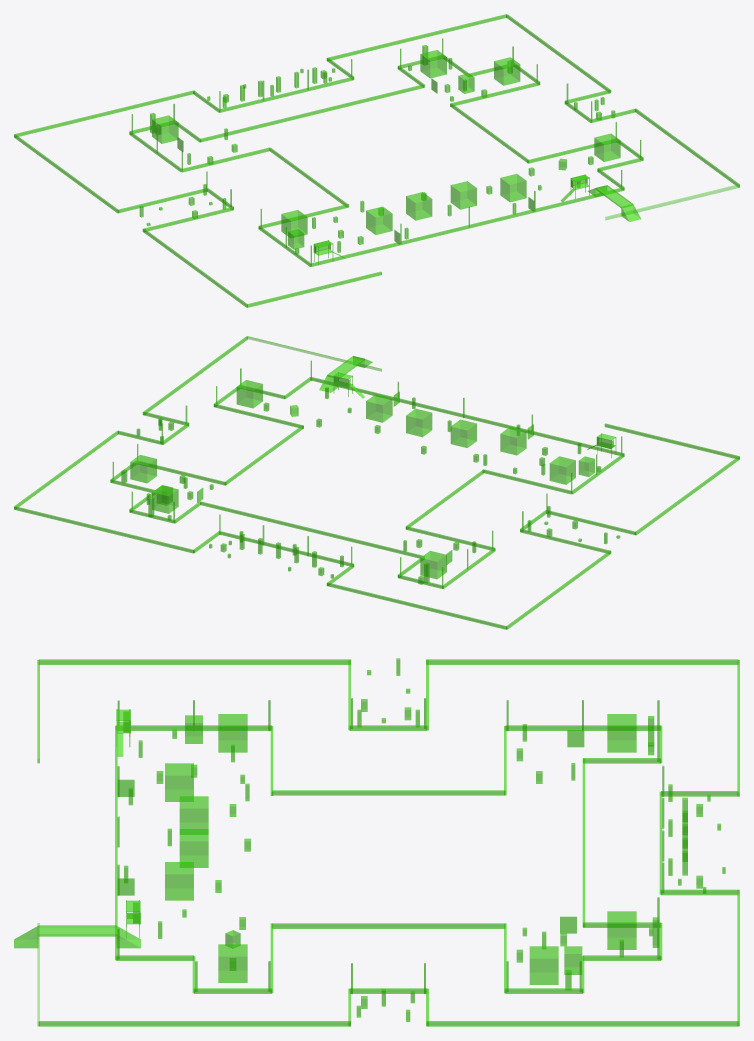
Rendered from track_03_collider.glb.
The picture shows the model from 3 angles, top to bottom: view 1: azimuth 30°, elevation 25°; view 2: azimuth 150°, elevation 25°; view 3: azimuth 270°, elevation 25°; orthographic projection. The views are drawn at different scales.
Parts seen in each view (by area): view 1: Box_collider.107_collider, Box_collider.095_collider, Box_collider.108_collider, Box_collider.105_collider, Box_collider.106_collider, light2_collider, Box_collider.096_collider, Box_collider.189_collider, Box_collider.184_collider, Box_collider.187_collider, Box_collider.183_collider, Box_collider.129_collider (+5 smaller); view 2: Box_collider.107_collider, Box_collider.095_collider, Box_collider.105_collider, Box_collider.106_collider, Box_collider.108_collider, light2_collider, Box_collider.096_collider, Box_collider.185_collider, Box_collider.184_collider, Box_collider.183_collider, Box_collider.182_collider, Box_collider.129_collider (+5 smaller); view 3: Box_collider.106_collider, Box_collider.105_collider, light2_collider, Box_collider.194_collider, Box_collider.094_collider, Box_collider.189_collider, Box_collider.187_collider, Box_collider.186_collider, Box_collider.185_collider, Box_collider.188_collider, Box_collider.129_collider, Box_collider.183_collider (+9 smaller).
Part boxes in pixels (x1=…): Box_collider.107_collider: x1=14, y1=14, x2=506, y2=137; Box_collider.095_collider: x1=310, y1=187, x2=624, y2=266; Box_collider.108_collider: x1=247, y1=184, x2=739, y2=307; Box_collider.105_collider: x1=14, y1=134, x2=247, y2=307; Box_collider.106_collider: x1=506, y1=14, x2=739, y2=187; light2_collider: x1=131, y1=38, x2=641, y2=263; Box_collider.096_collider: x1=200, y1=84, x2=423, y2=142; Box_collider.189_collider: x1=420, y1=50, x2=446, y2=78; Box_collider.184_collider: x1=366, y1=206, x2=392, y2=234; Box_collider.187_collider: x1=594, y1=133, x2=620, y2=161; Box_collider.183_collider: x1=406, y1=192, x2=432, y2=220; Box_collider.129_collider: x1=450, y1=181, x2=476, y2=209; Box_collider.107_collider: x1=14, y1=506, x2=506, y2=629; Box_collider.095_collider: x1=310, y1=377, x2=624, y2=456; Box_collider.105_collider: x1=506, y1=456, x2=739, y2=629; Box_collider.106_collider: x1=14, y1=336, x2=247, y2=509; Box_collider.108_collider: x1=247, y1=336, x2=739, y2=459; light2_collider: x1=112, y1=360, x2=622, y2=585; Box_collider.096_collider: x1=200, y1=501, x2=422, y2=558; Box_collider.185_collider: x1=549, y1=456, x2=575, y2=484; Box_collider.184_collider: x1=500, y1=427, x2=526, y2=455; Box_collider.183_collider: x1=450, y1=419, x2=476, y2=447; Box_collider.182_collider: x1=366, y1=394, x2=392, y2=422; Box_collider.129_collider: x1=406, y1=409, x2=432, y2=437; Box_collider.106_collider: x1=38, y1=1021, x2=738, y2=1026; Box_collider.105_collider: x1=39, y1=659, x2=738, y2=664; light2_collider: x1=117, y1=698, x2=664, y2=993; Box_collider.194_collider: x1=272, y1=790, x2=505, y2=795; Box_collider.094_collider: x1=272, y1=923, x2=504, y2=928; Box_collider.189_collider: x1=607, y1=911, x2=636, y2=949; Box_collider.187_collider: x1=218, y1=944, x2=247, y2=982; Box_collider.186_collider: x1=607, y1=714, x2=636, y2=752; Box_collider.185_collider: x1=218, y1=714, x2=247, y2=752; Box_collider.188_collider: x1=529, y1=946, x2=558, y2=984; Box_collider.129_collider: x1=179, y1=829, x2=208, y2=867; Box_collider.183_collider: x1=179, y1=796, x2=208, y2=834.
Size of the model in its own units: 177 by 10.41 by 149.
